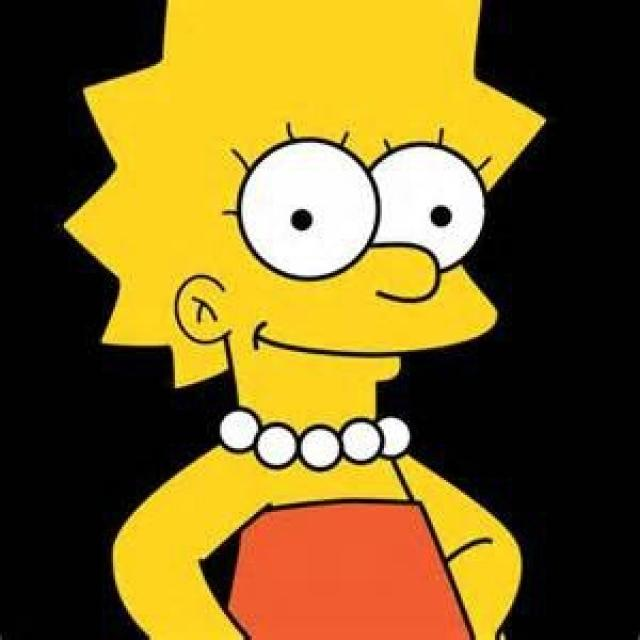Lisa Simpson: (57, 1, 550, 477)
